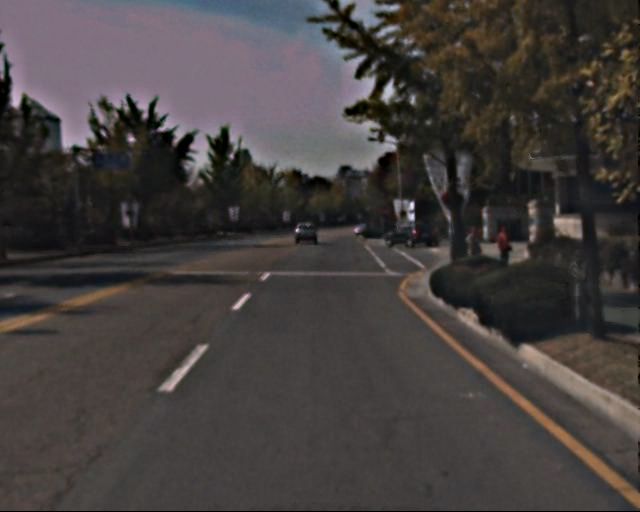person: (494, 223, 514, 272)
